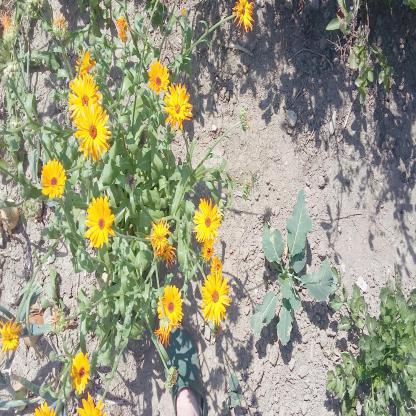marigold: (77, 98, 111, 161), (84, 194, 115, 249), (201, 270, 230, 324), (162, 82, 193, 131), (67, 74, 99, 118), (192, 195, 220, 242), (157, 282, 184, 328), (40, 158, 67, 199), (75, 47, 100, 87), (70, 351, 90, 394), (147, 59, 170, 94), (202, 237, 214, 261), (210, 254, 222, 275)
